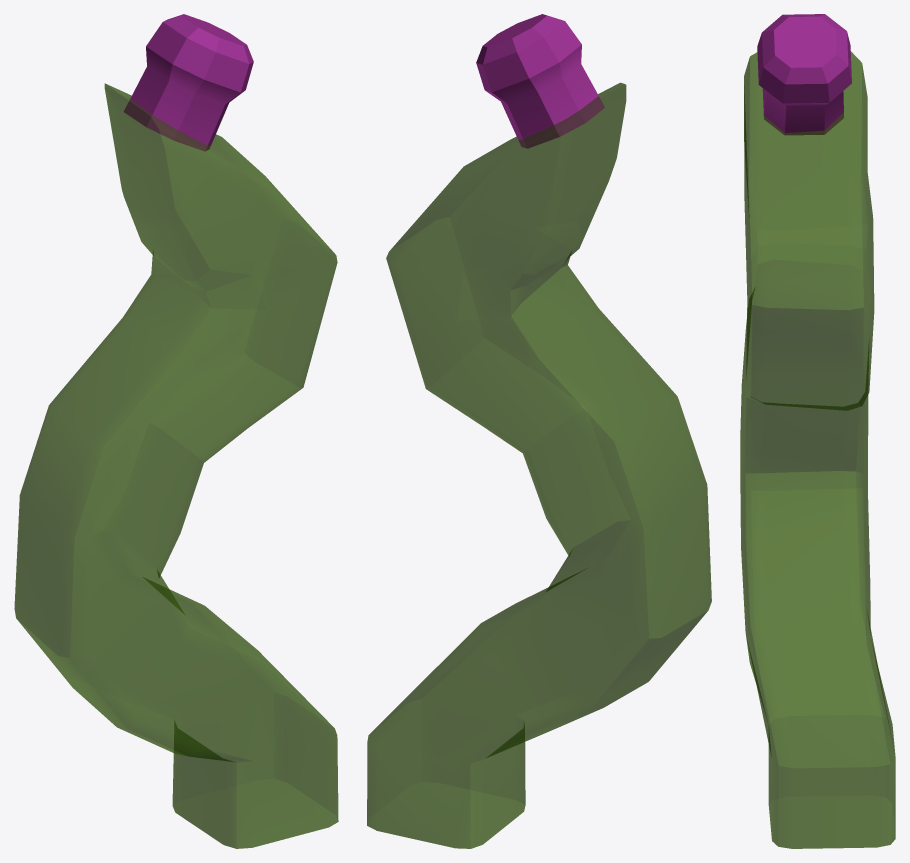
File: elxir3.fbx
The picture shows the model from 3 angles, left to right: view 1: azimuth 30°, elevation 25°; view 2: azimuth 150°, elevation 25°; view 3: azimuth 270°, elevation 25°; orthographic projection. The views are drawn at different scales.
Visible parts, largest first — view 1: Urn_Weird; view 2: Urn_Weird; view 3: Urn_Weird.
Part boxes in pixels (x1,y1,x2,y2): Urn_Weird: [14, 14, 338, 848]; Urn_Weird: [367, 14, 711, 848]; Urn_Weird: [740, 14, 895, 848].
Size of the model in its own units: 0.7368 by 1.98 by 0.3636.
